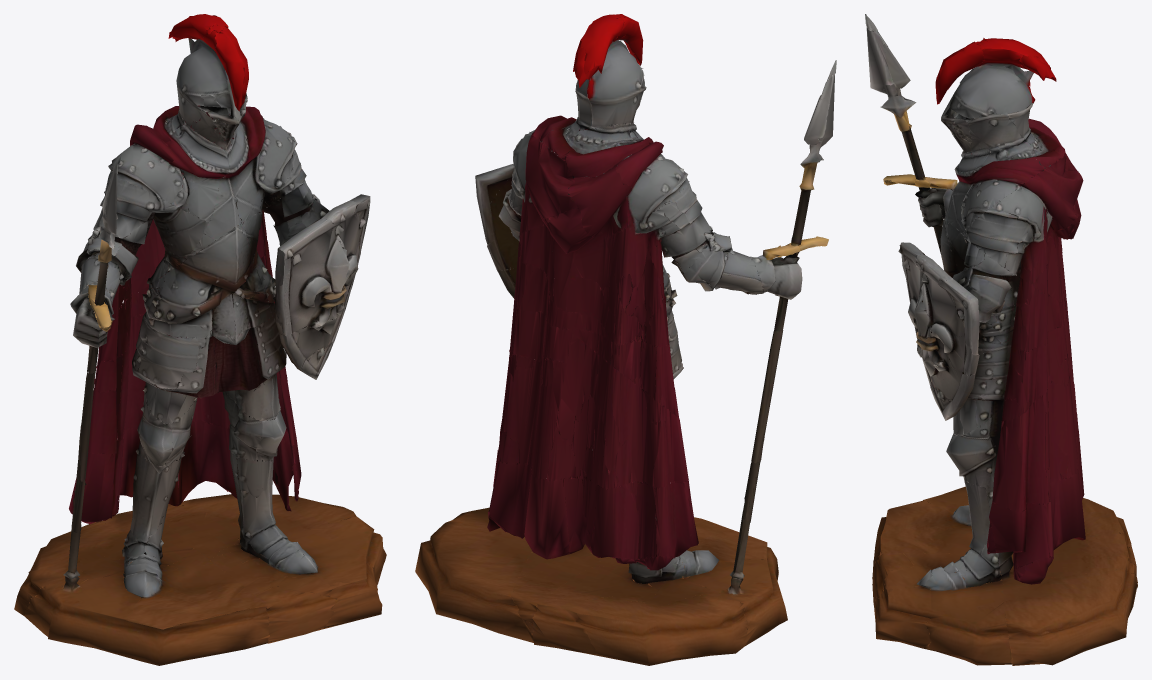
The model's file is KRM_M16_GEN_knight_armor_LOD.fbx.
3 renders of one model, left to right at view 1: azimuth 30°, elevation 25°; view 2: azimuth 150°, elevation 25°; view 3: azimuth 270°, elevation 25°, orthographic. The views are drawn at different scales.
Visible parts, largest first — view 1: KRM_M16_GEN_knight_armor_LOD; view 2: KRM_M16_GEN_knight_armor_LOD; view 3: KRM_M16_GEN_knight_armor_LOD.
Boxes of the visible parts, box(x1,y1,x2,y2) form: KRM_M16_GEN_knight_armor_LOD: box(14, 14, 386, 665); KRM_M16_GEN_knight_armor_LOD: box(415, 14, 836, 665); KRM_M16_GEN_knight_armor_LOD: box(865, 14, 1137, 665).
Bounding box in the file's own units: 120 × 195 × 87.78.
Materials: 1 (1 with a texture image).
